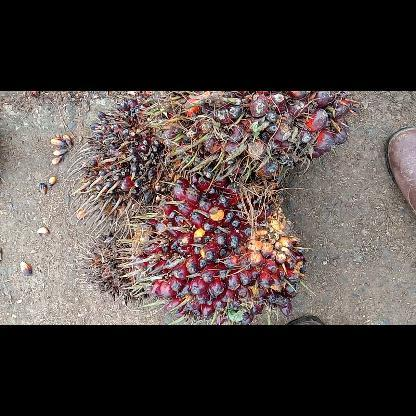TBS abnormal: (62, 96, 178, 242), (74, 228, 154, 307)
TBS masak: (116, 170, 308, 324), (140, 90, 356, 192)
